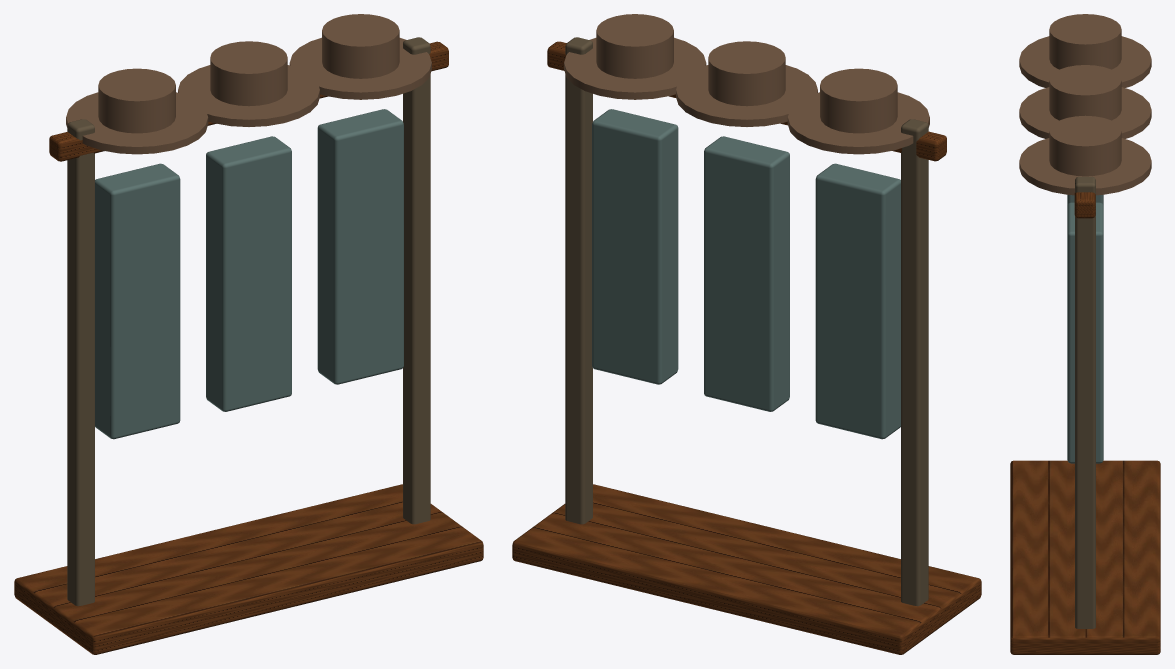
File: undercity-sewers-and-thieves-den-disguise-rack-43a359ed__27249.glb
3 views of the same model, side by side, from view 1: azimuth 30°, elevation 25°; view 2: azimuth 150°, elevation 25°; view 3: azimuth 270°, elevation 25° (orthographic). The views are drawn at different scales.
Parts seen in each view (by area): view 1: disguise-rack; view 2: disguise-rack; view 3: disguise-rack.
Boxes of the visible parts, bbox=[...] form: disguise-rack: bbox=[14, 14, 483, 654]; disguise-rack: bbox=[512, 14, 981, 654]; disguise-rack: bbox=[1010, 14, 1160, 654].
Bounding box in the file's own units: 1.4 × 1.79 × 0.4999.
Materials: 4 (1 with a texture image).
